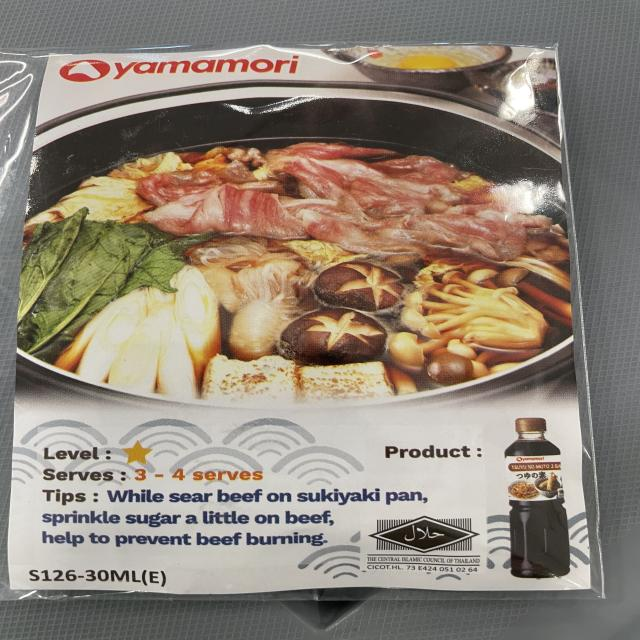object_name: (15, 51, 590, 600)
